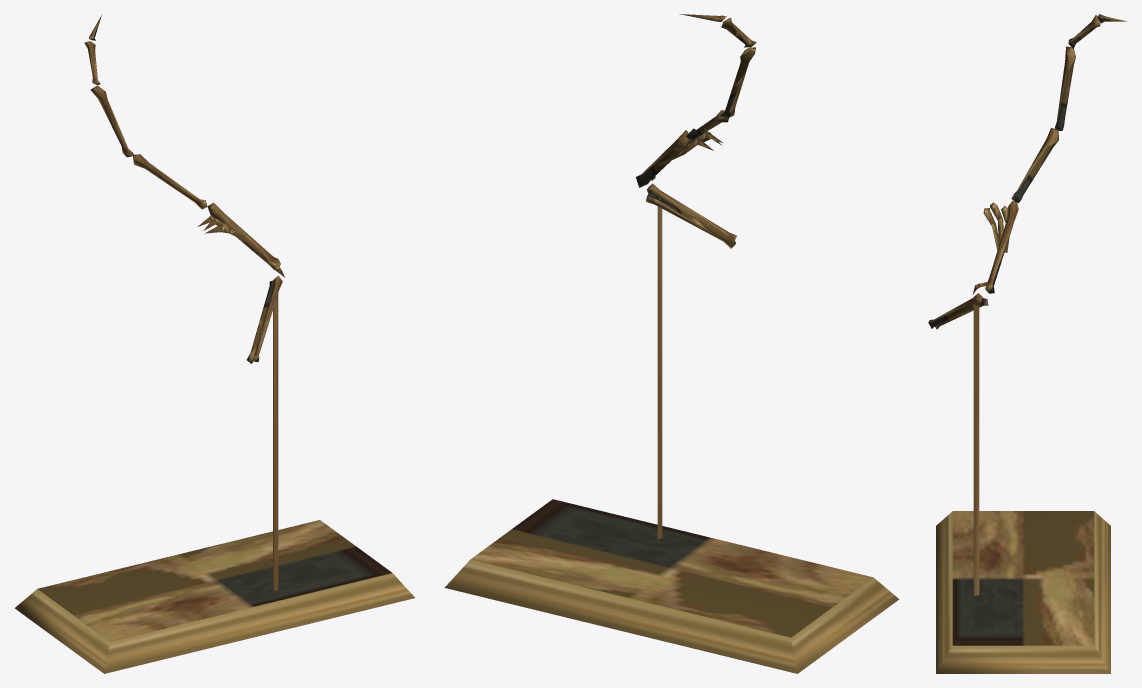
Rendered from int_din_pte_b.dae.
3 views of the same model, side by side, from view 1: azimuth 30°, elevation 25°; view 2: azimuth 150°, elevation 25°; view 3: azimuth 270°, elevation 25° (orthographic). The views are drawn at different scales.
Parts seen in each view (by area): view 1: int_din_pte_b; view 2: int_din_pte_b; view 3: int_din_pte_b.
Part boxes in pixels (x1,y1,x2,y2): int_din_pte_b: (15, 15, 414, 673); int_din_pte_b: (444, 14, 899, 673); int_din_pte_b: (928, 14, 1127, 673).
Bounding box in the file's own units: 58.65 × 102 × 33.42.
Materials: 1 (1 with a texture image).
